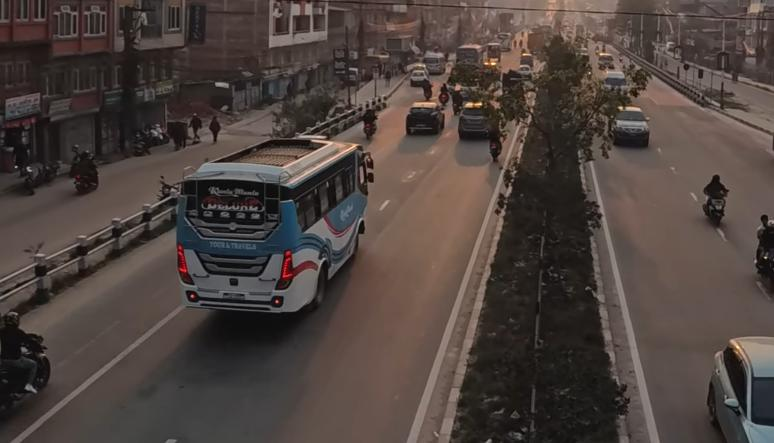bus: (163, 130, 383, 330)
